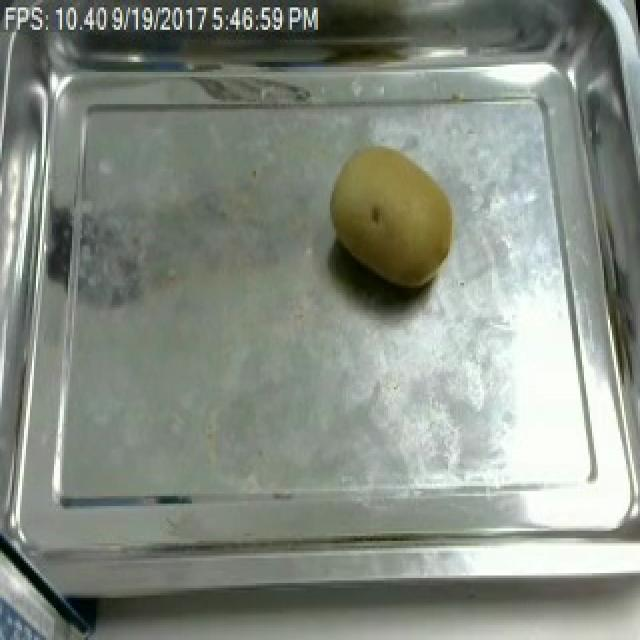Fruit: (322, 134, 466, 300)
